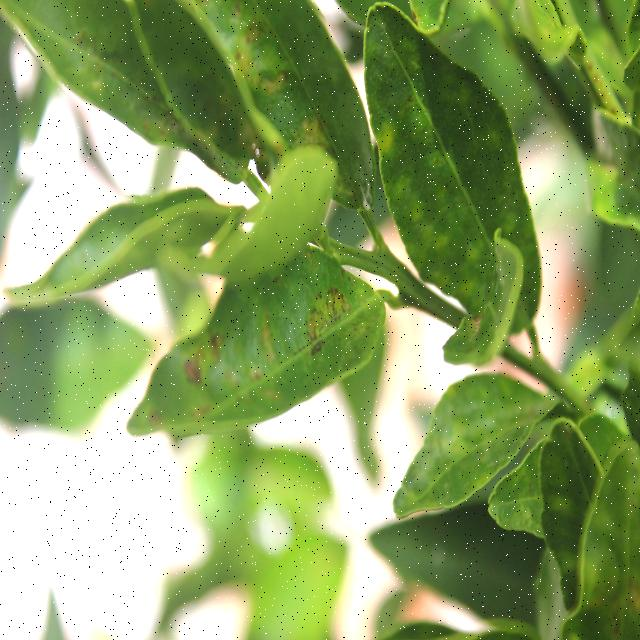canker: (368, 15, 525, 313), (132, 274, 376, 432), (240, 6, 349, 184)
